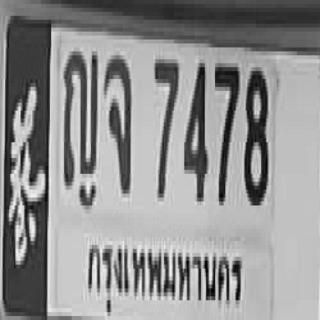A08: (102, 51, 131, 190)
A13: (63, 47, 97, 186)
N04: (183, 59, 206, 198)
N07: (214, 59, 238, 201), (154, 55, 178, 194)
N08: (243, 67, 267, 201)
P04: (85, 236, 247, 320)
